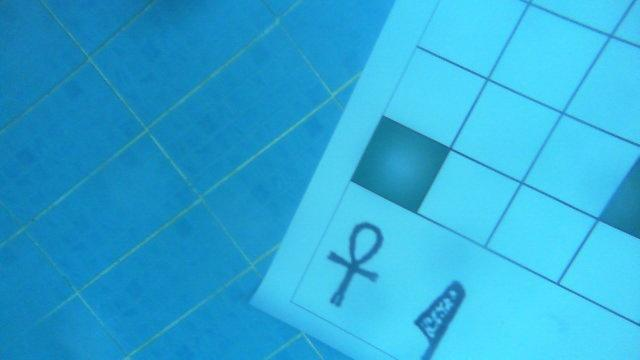Ankh: (324, 216, 388, 310)
Reed: (411, 276, 472, 360)
